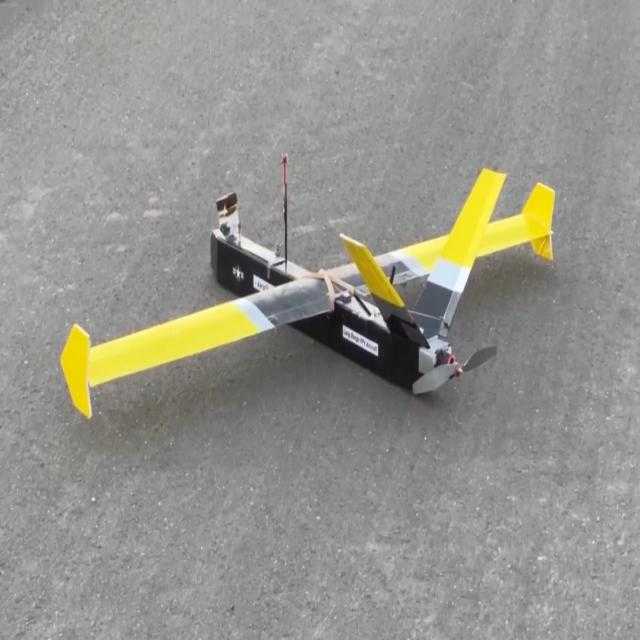iha: (36, 136, 551, 413)
